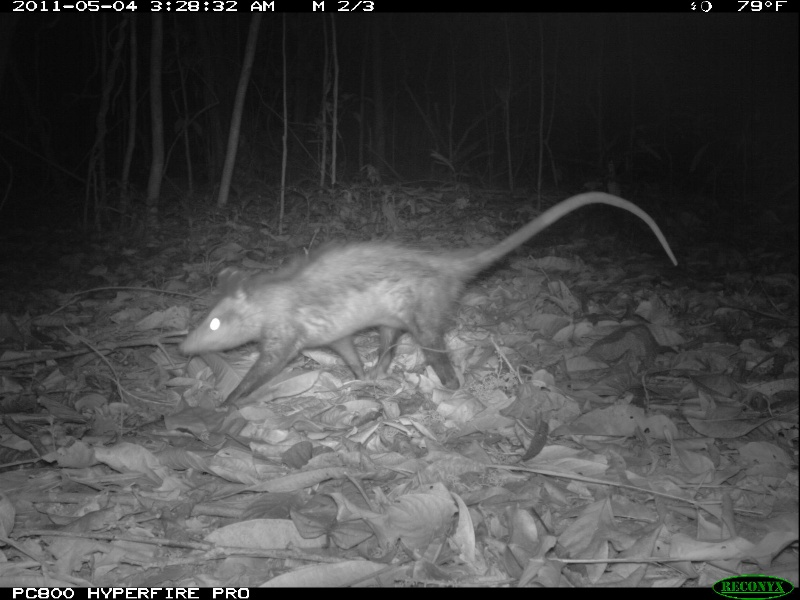opossum: (176, 192, 679, 414)
